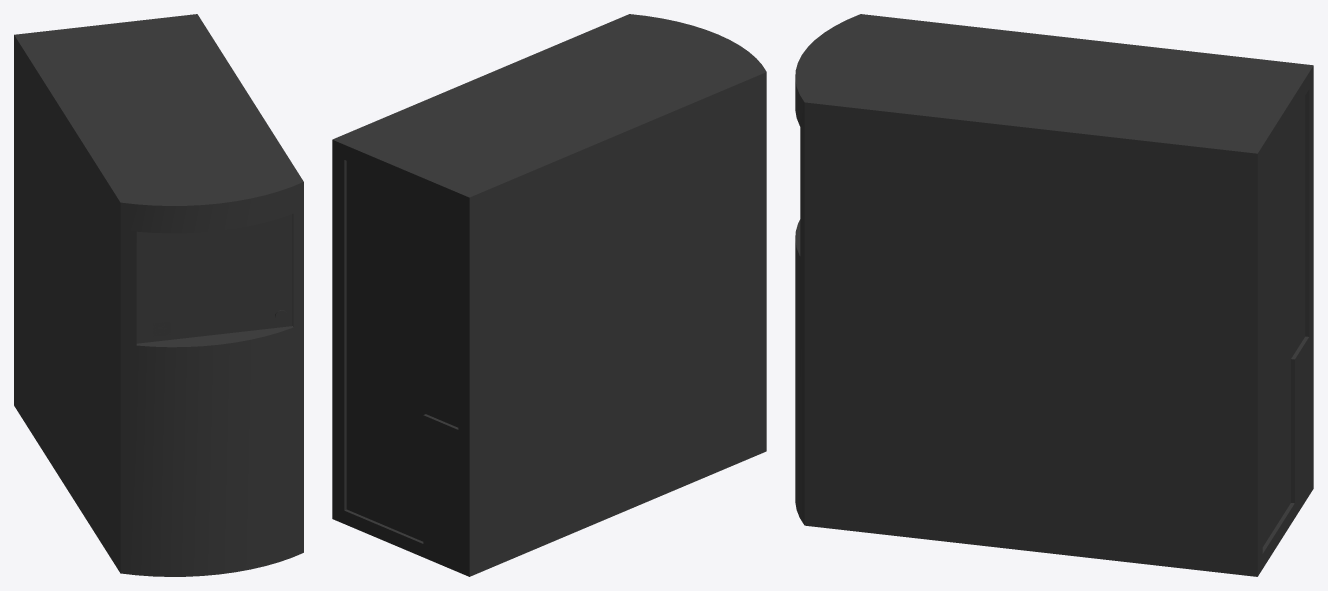
Rendered from Desktop.obj.
3 renders of one model, left to right at view 1: azimuth 30°, elevation 25°; view 2: azimuth 150°, elevation 25°; view 3: azimuth 270°, elevation 25°, orthographic. The views are drawn at different scales.
Bounding box in the file's own units: 0.3062 × 0.4325 × 0.4802.
